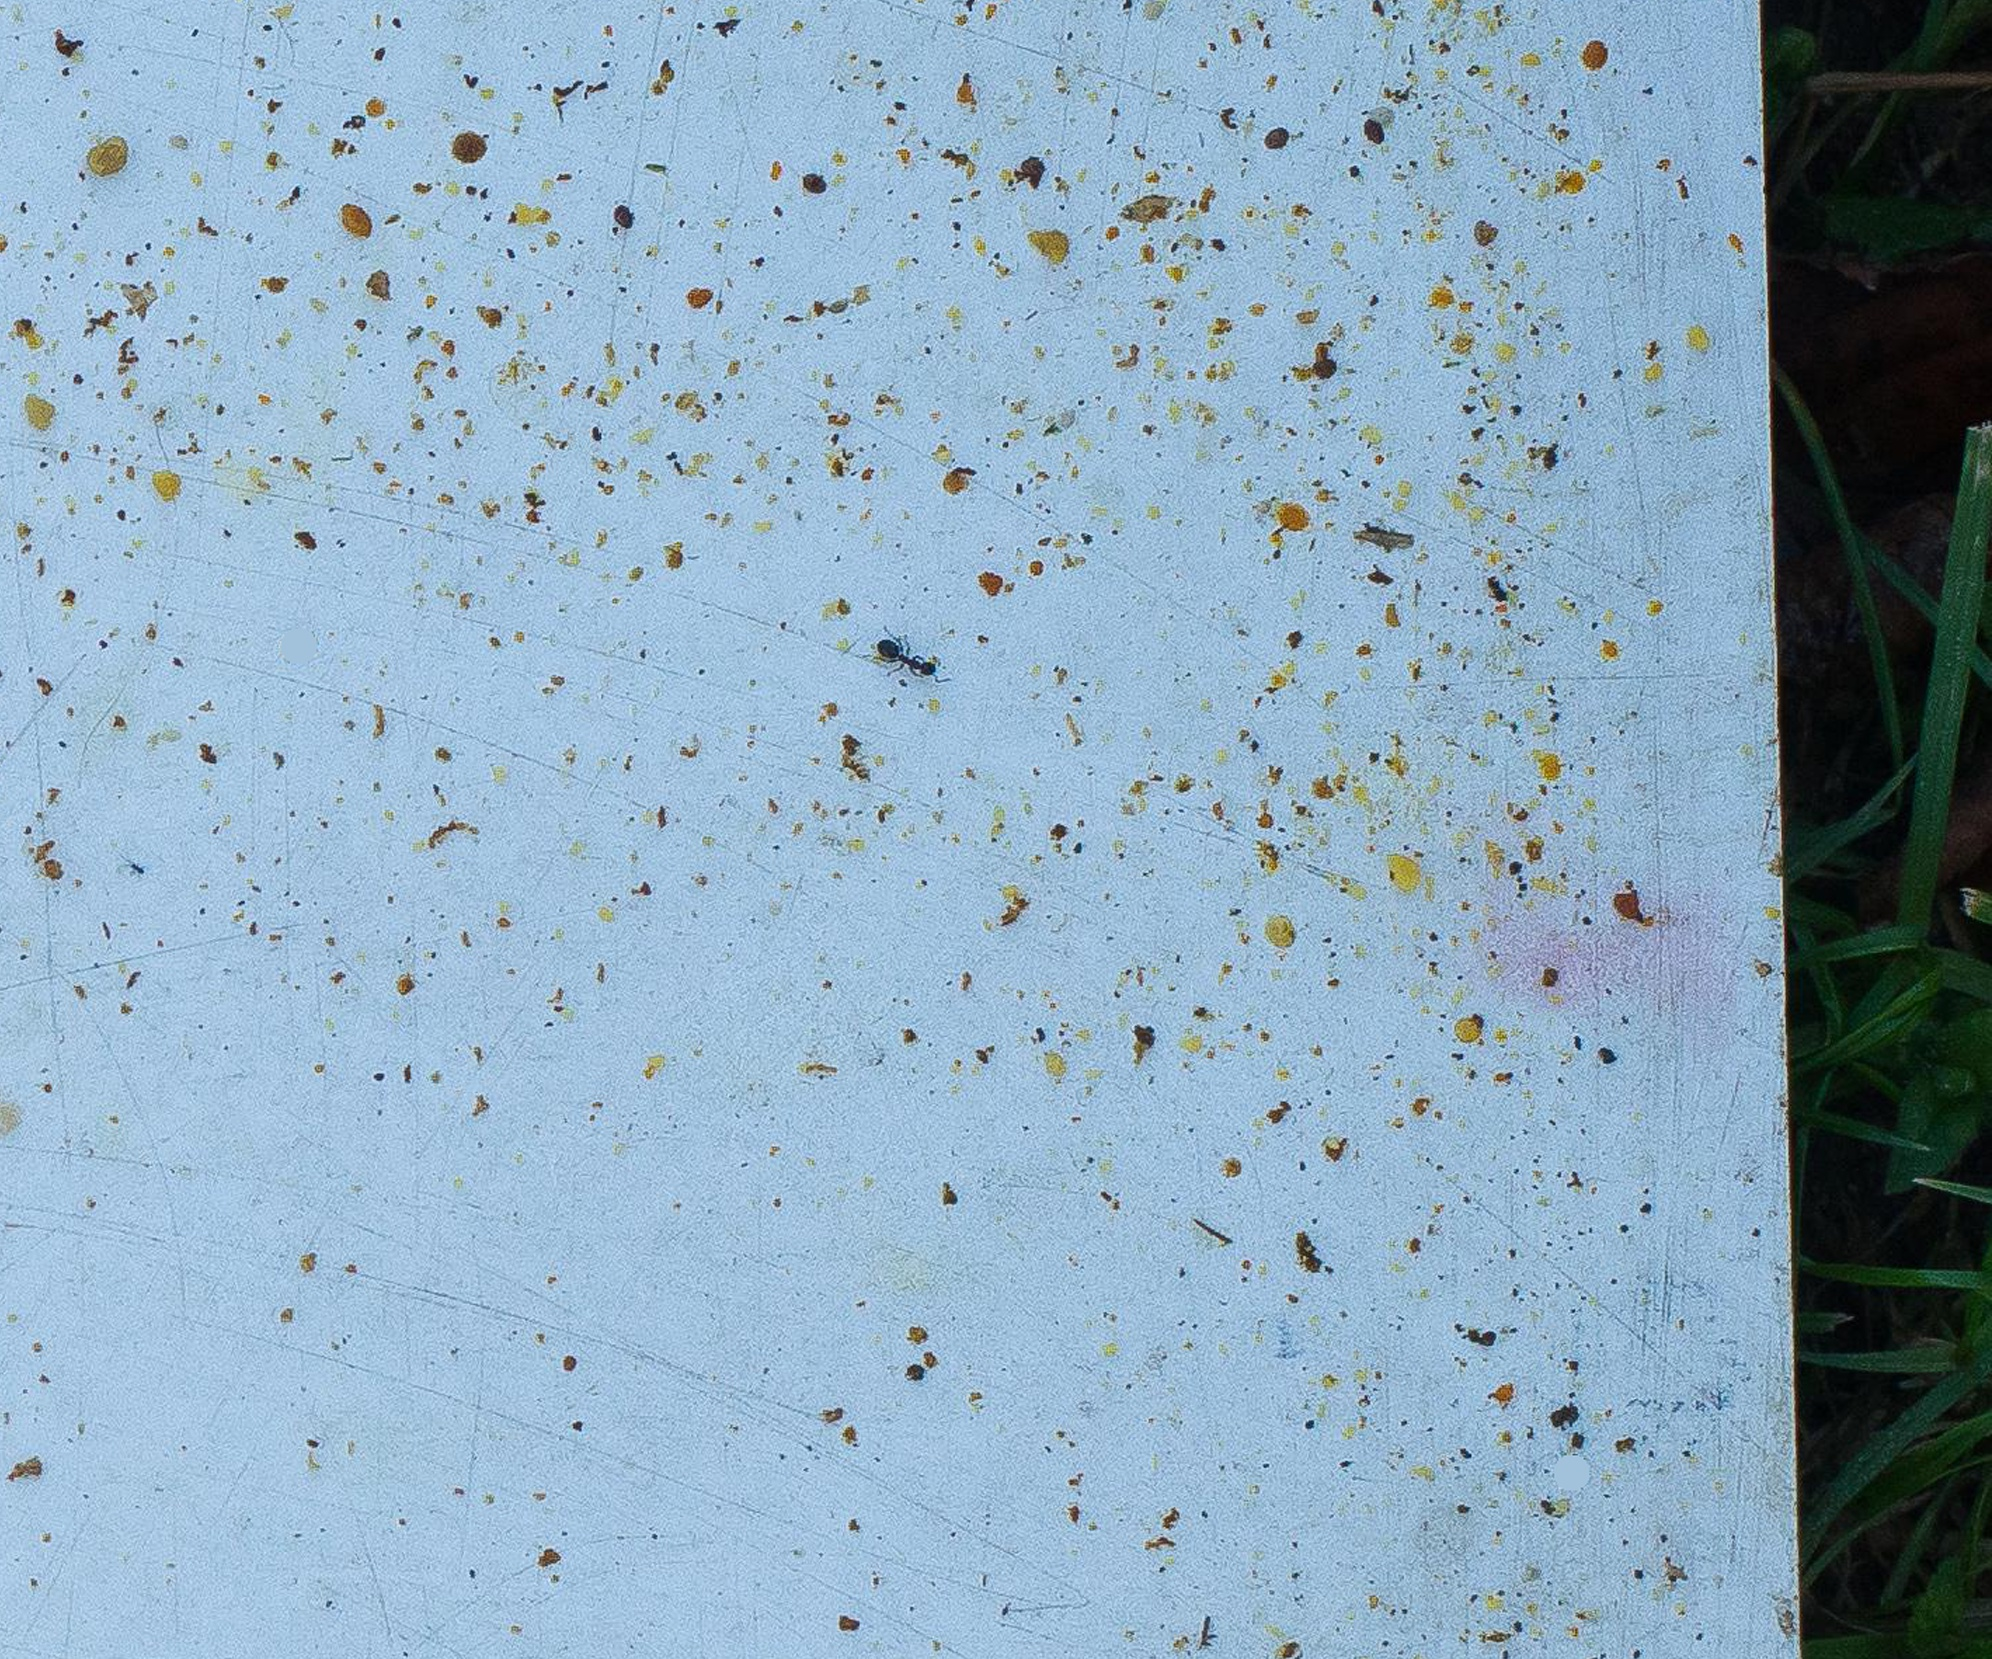Varroa: (1009, 141, 1052, 185), (1304, 342, 1347, 387), (606, 207, 640, 245), (797, 164, 832, 200), (1267, 126, 1305, 159), (869, 633, 903, 668), (1357, 116, 1390, 149)
